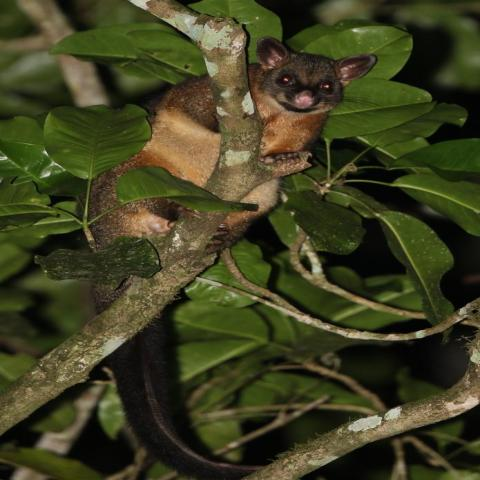small_animal: (82, 35, 379, 476)
